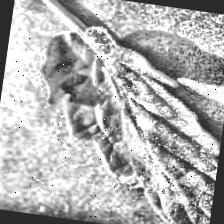leaf mold: (21, 21, 224, 224)
